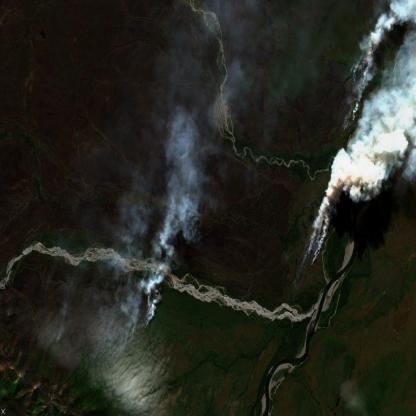fire: (97, 263, 163, 366), (332, 40, 381, 134), (286, 198, 332, 288)
